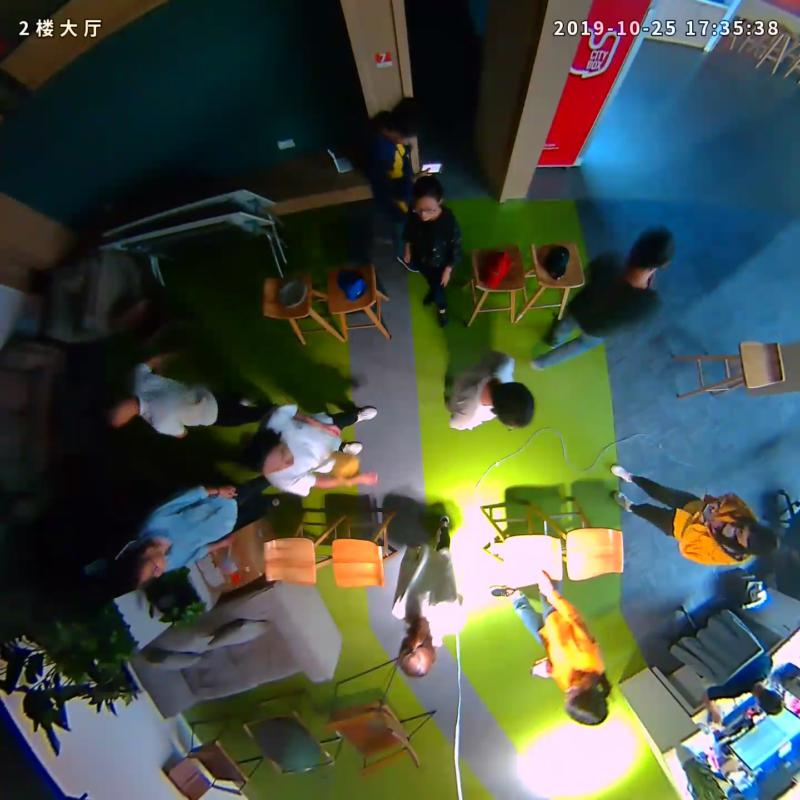head: (561, 671, 610, 726), (112, 538, 168, 586), (629, 225, 675, 278), (243, 429, 295, 475), (493, 382, 538, 427), (387, 97, 431, 139), (734, 516, 780, 556), (398, 629, 436, 677), (100, 388, 141, 429), (411, 174, 443, 223)
